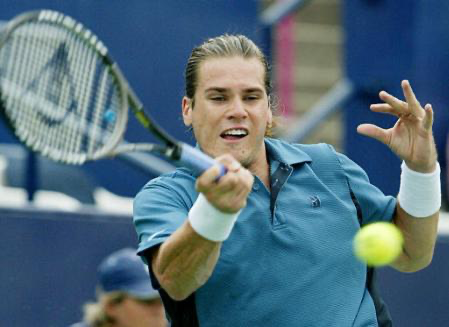Face: (190, 73, 275, 165)
